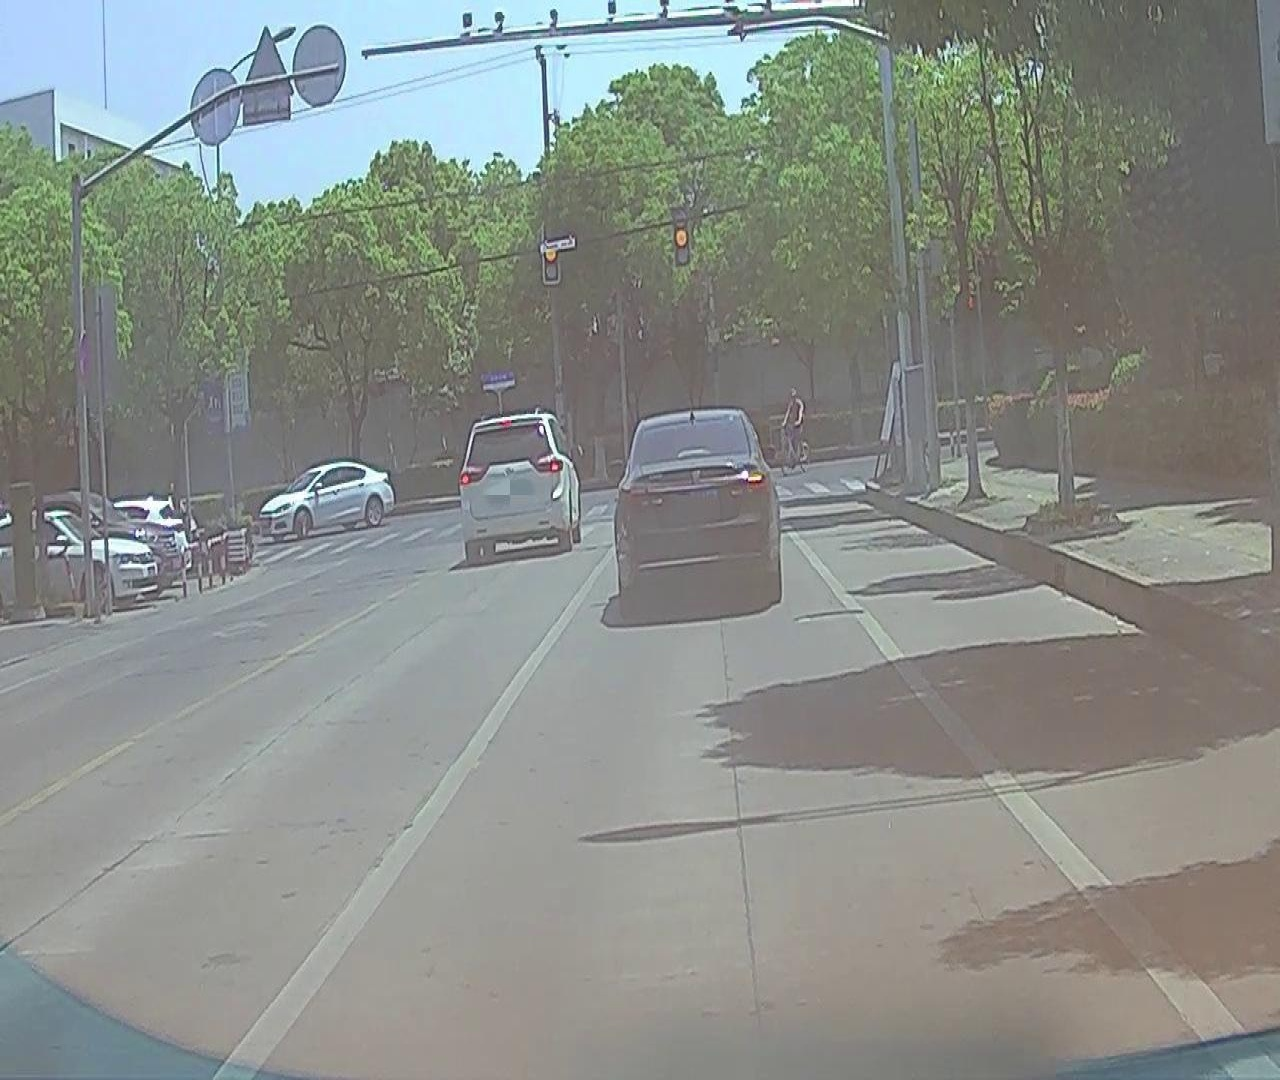yellow: (544, 222, 560, 280), (674, 208, 688, 261)
